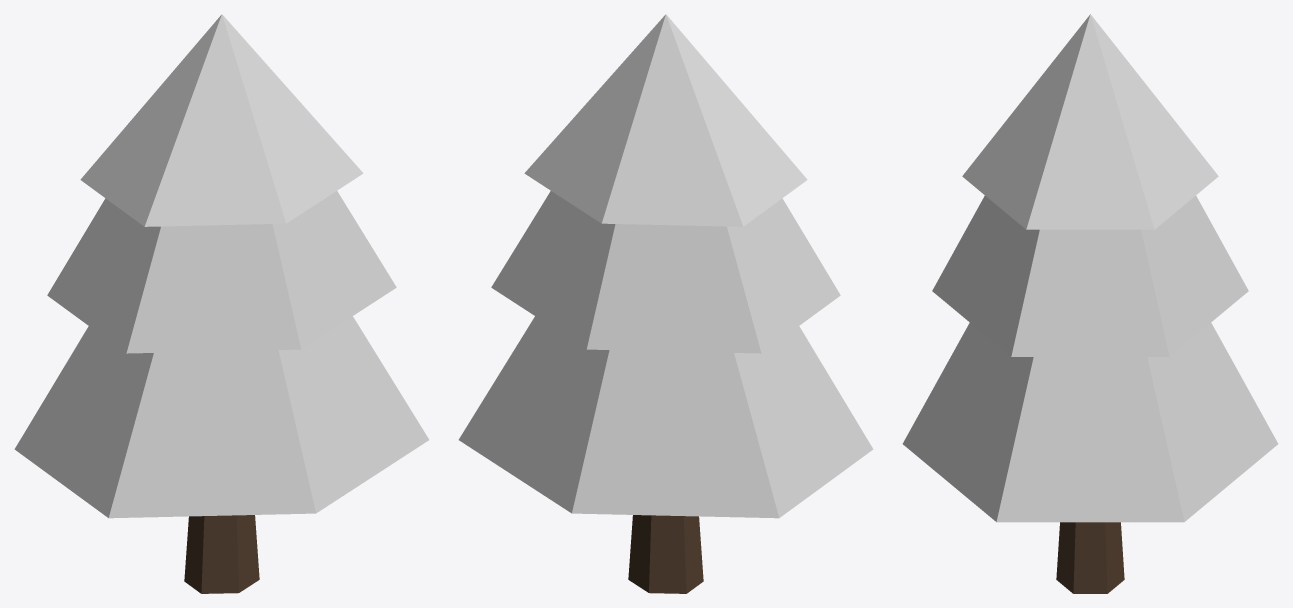
Rendered from Tree_Winter_Small.fbx.
3 renders of one model, left to right at view 1: azimuth 30°, elevation 25°; view 2: azimuth 150°, elevation 25°; view 3: azimuth 270°, elevation 25°, orthographic.
Visible parts, largest first — view 1: Tree_Winter_Small; view 2: Tree_Winter_Small; view 3: Tree_Winter_Small.
Part boxes in pixels (x1=…): Tree_Winter_Small: x1=14, y1=14, x2=429, y2=593; Tree_Winter_Small: x1=458, y1=14, x2=873, y2=593; Tree_Winter_Small: x1=902, y1=14, x2=1278, y2=593.
Bounding box in the file's own units: 105 × 177 × 106.
